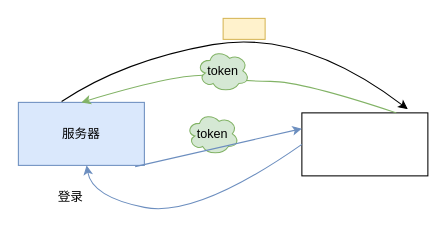
This 446x228 diagram has some shape labels left out. Here are the shapes that lost their labels. From the top down, the centre of each, then its label:
point (243, 28): 数据
point (364, 144): WEB/小程序
